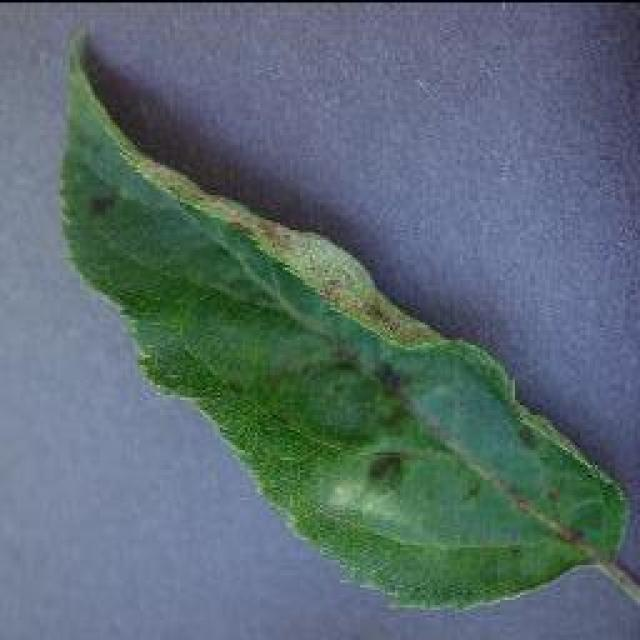apple scab disease: (55, 25, 637, 617)
